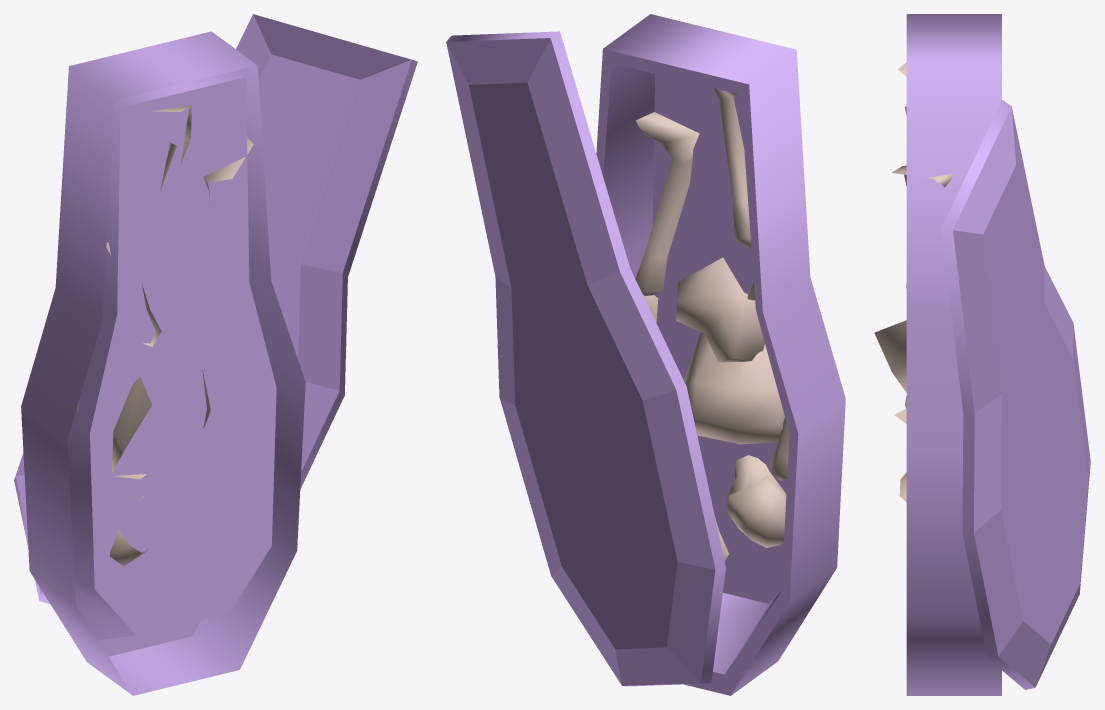
3 renders of one model, left to right at view 1: azimuth 30°, elevation 25°; view 2: azimuth 150°, elevation 25°; view 3: azimuth 270°, elevation 25°, orthographic. The views are drawn at different scales.
Parts seen in each view (by area): view 1: Object91; view 2: Object91; view 3: Object91.
Boxes of the visible parts, bbox=[...] form: Object91: bbox=[14, 14, 417, 695]; Object91: bbox=[446, 14, 845, 695]; Object91: bbox=[874, 14, 1090, 695].
Bounding box in the file's own units: 13782 × 21902 × 6822.
